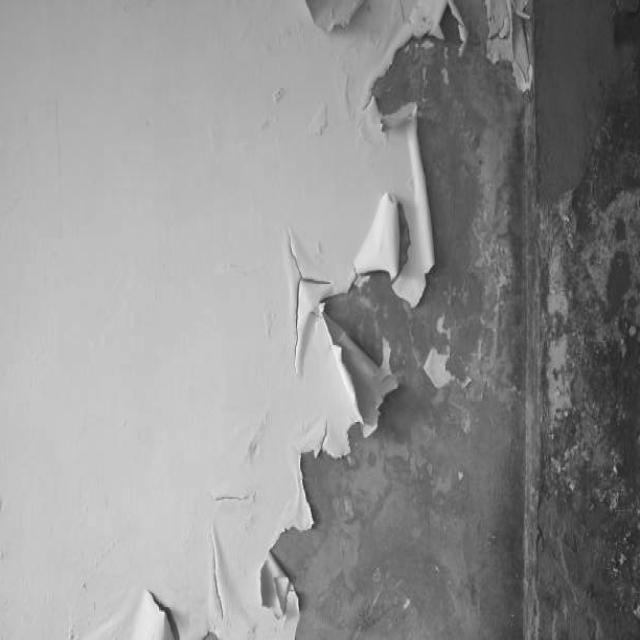peeling paint: (60, 0, 640, 637)
